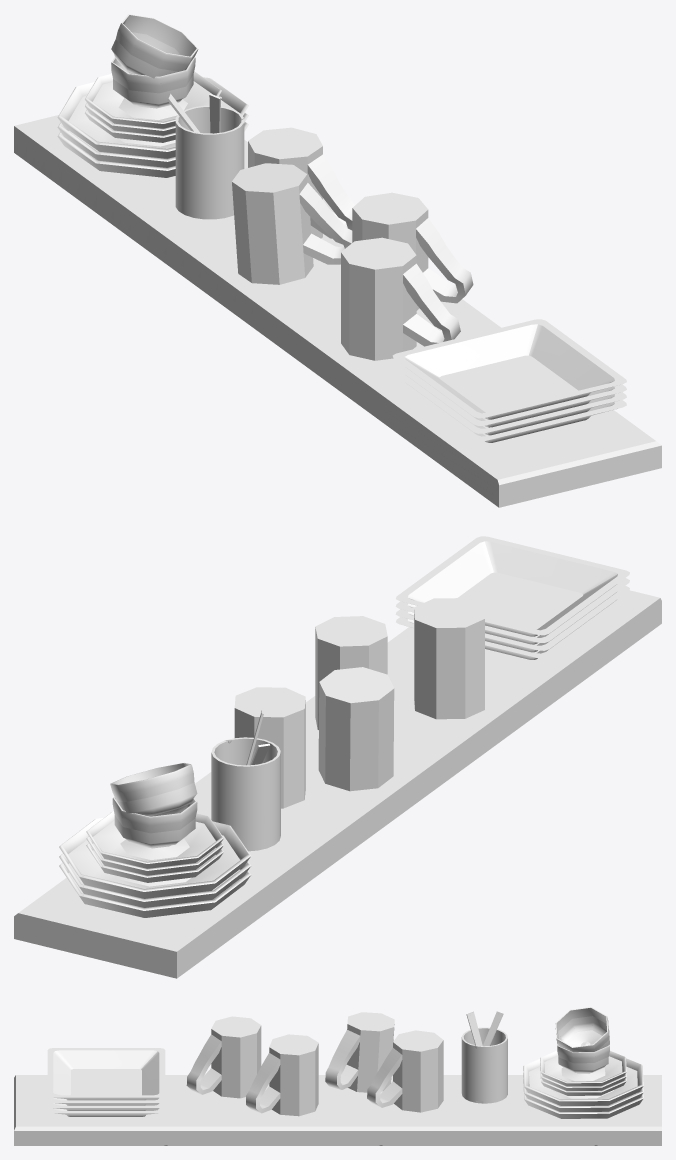
The model's file is BarraTrastes.obj.
3 views of the same model, one above another, from view 1: azimuth 30°, elevation 25°; view 2: azimuth 150°, elevation 25°; view 3: azimuth 270°, elevation 25° (orthographic). The views are drawn at different scales.
Visible parts, largest first — view 1: kitchenObj1:pCylinder7; view 2: kitchenObj1:pCylinder7; view 3: kitchenObj1:pCylinder7.
Part boxes in pixels (x1,y1,x2,y2): kitchenObj1:pCylinder7: (14, 14, 661, 507); kitchenObj1:pCylinder7: (14, 536, 661, 978); kitchenObj1:pCylinder7: (14, 1007, 661, 1145).
Size of the model in its own units: 0.5383 by 0.4903 by 2.78.
Materials: 6 (5 with a texture image).
